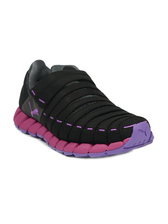shoes: (8, 58, 159, 160)
